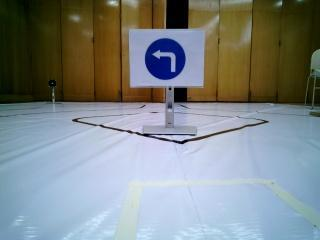left: (132, 31, 198, 83)
